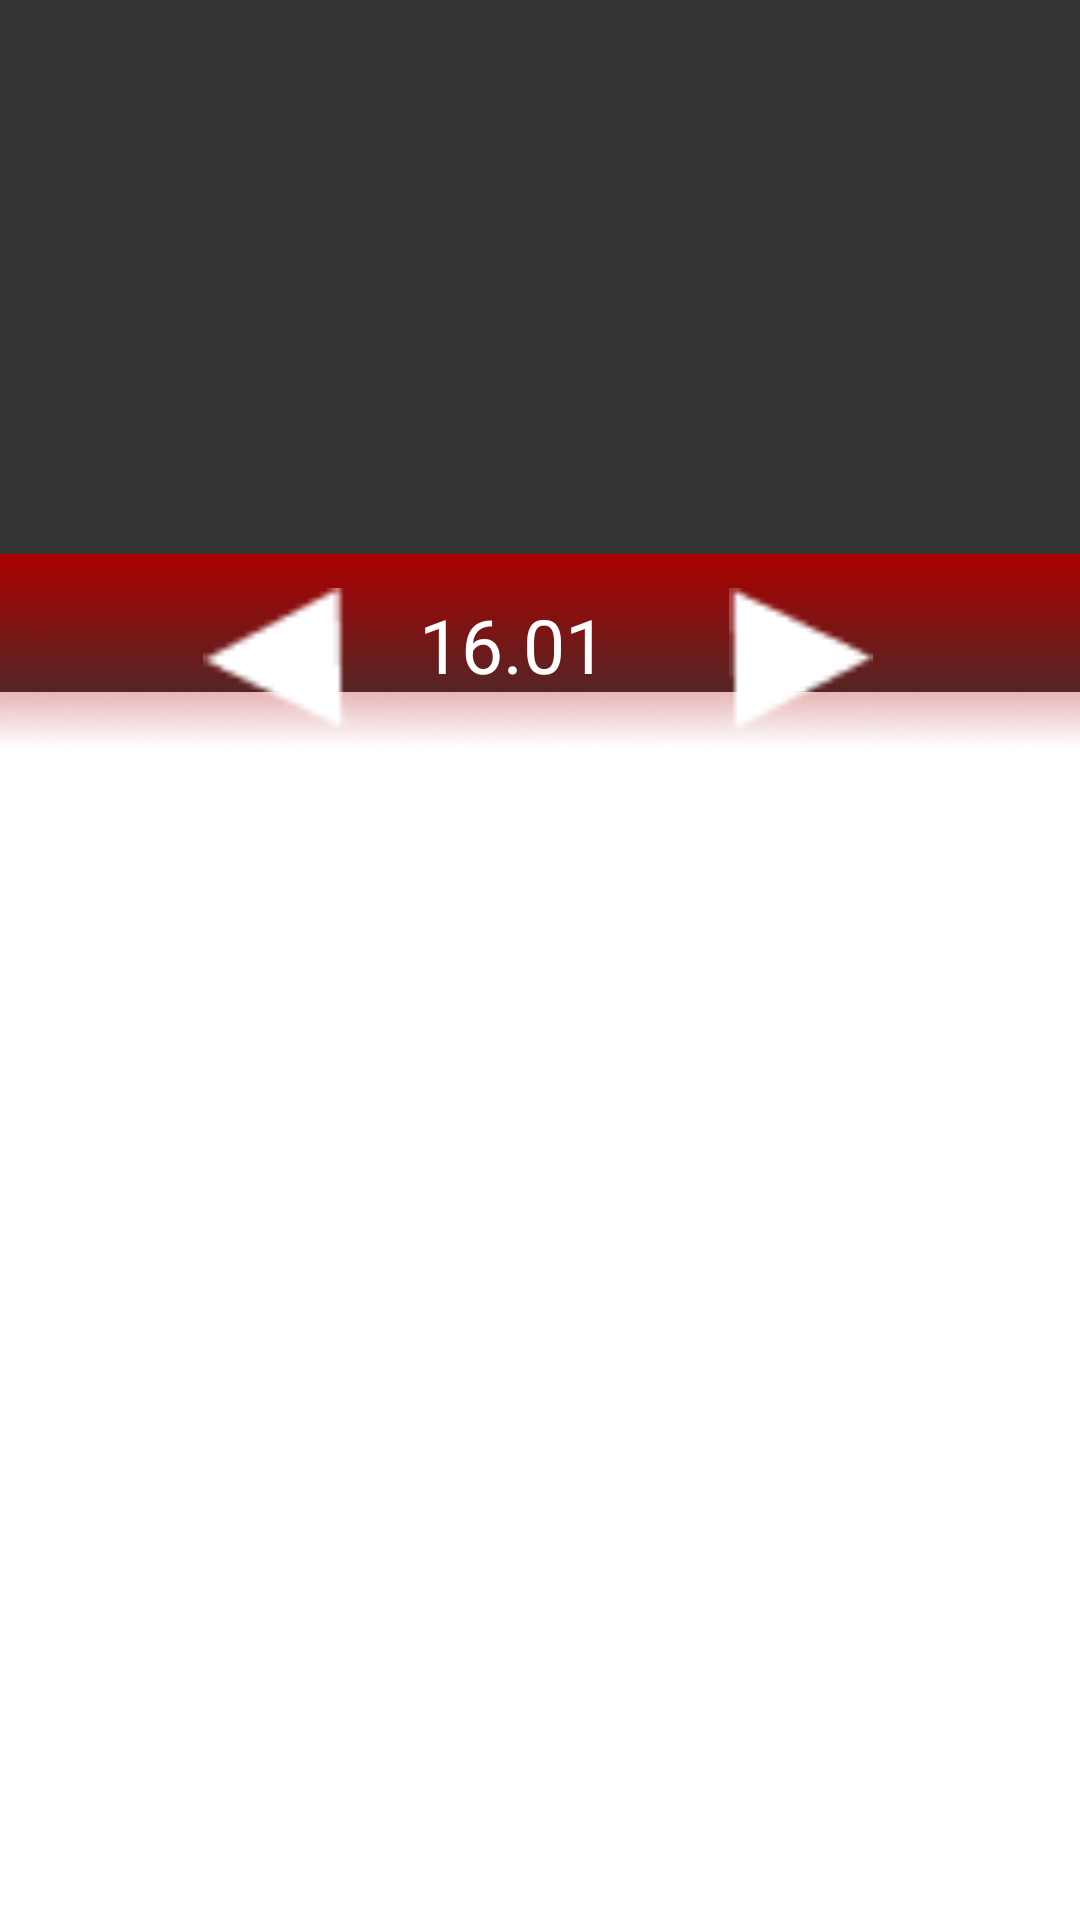

Point at icon controls on the screen. Image size 1080px×1920px, points as point (x, y).
strelka lev: point (275, 660)
strelka prav: point (801, 660)
